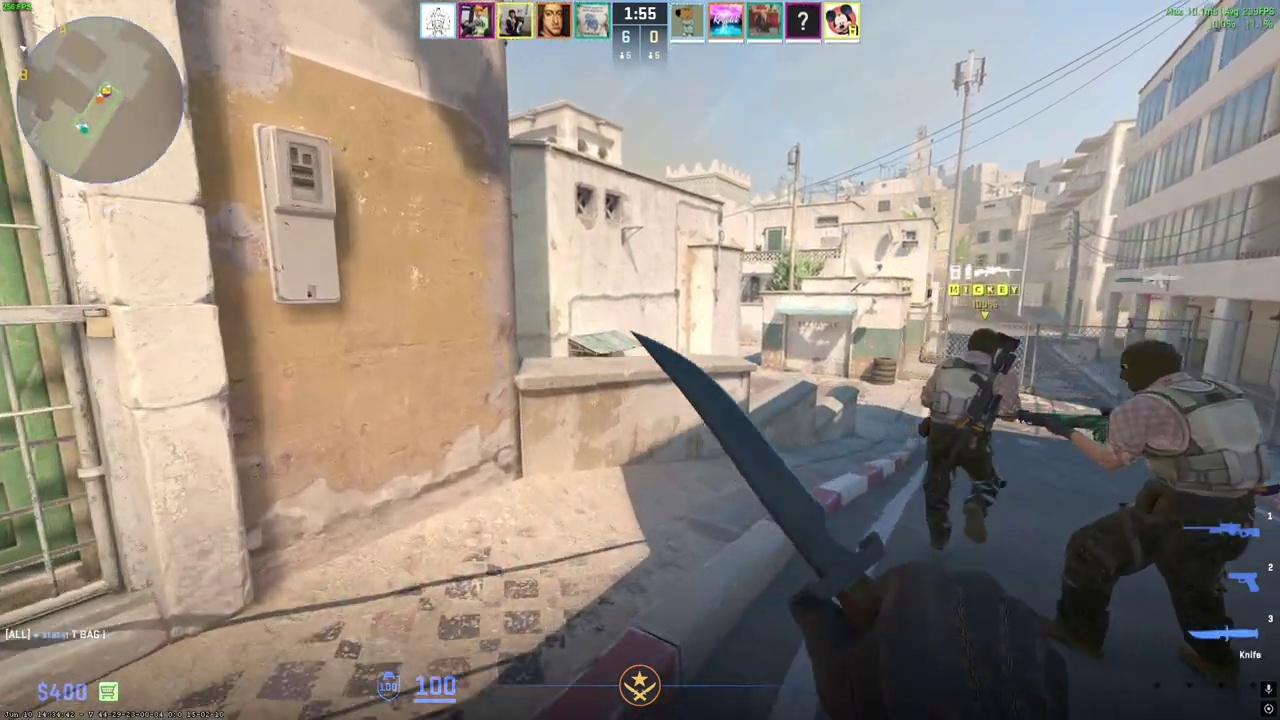Terrorist: (1056, 339, 1268, 687), (919, 328, 1016, 554)
